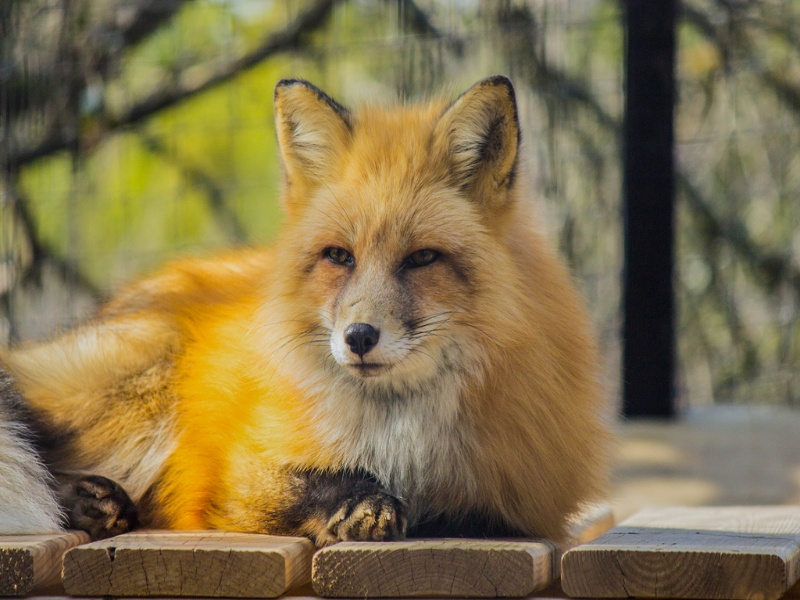fox: (1, 73, 607, 545)
